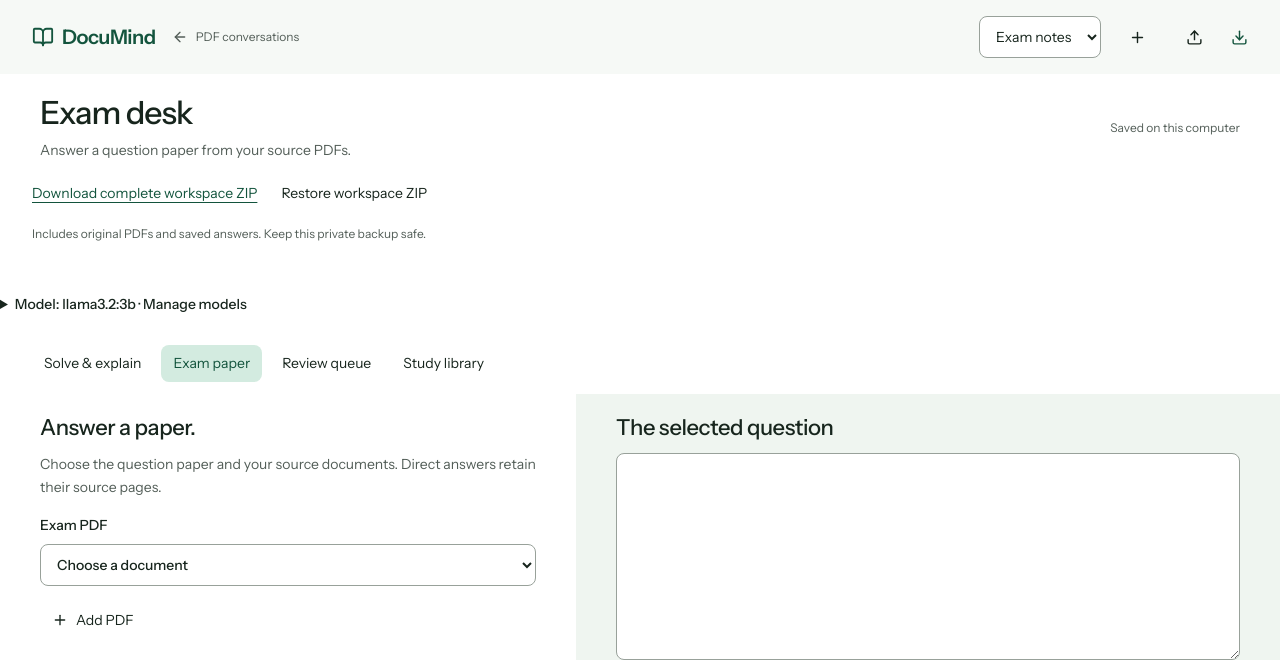
Test: stops a model job without saving a completed attempt
Click the button "Solve & explain" at (93,364), box [32,345,153,382]
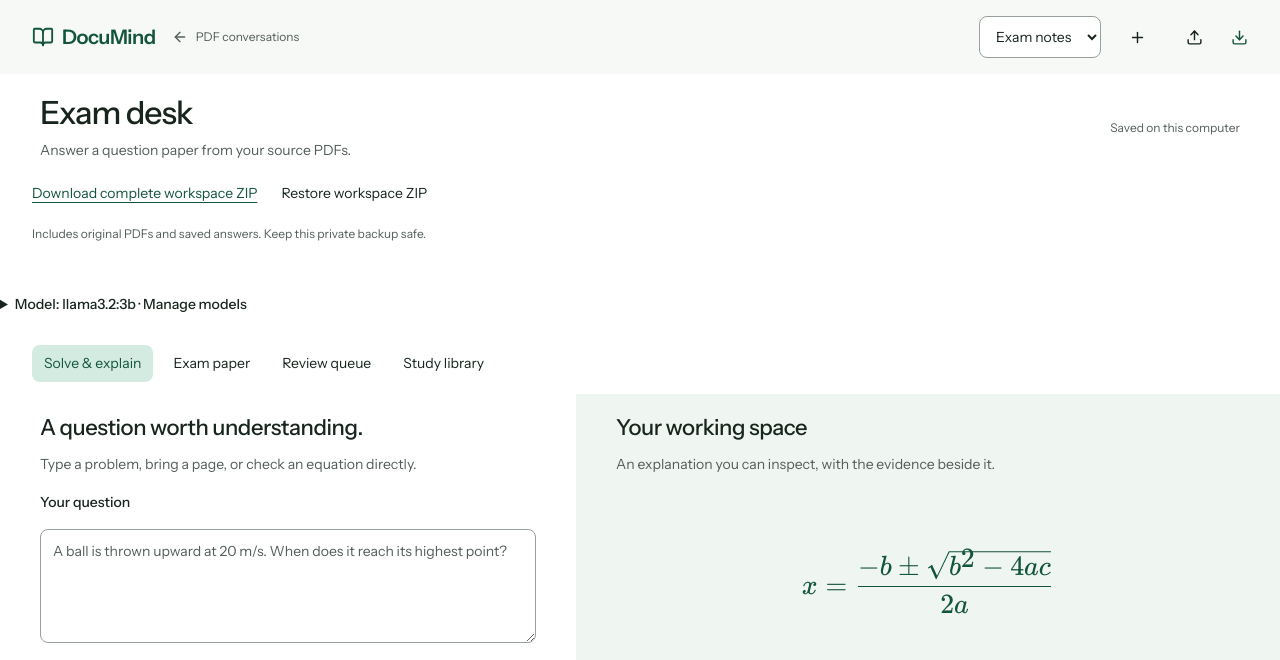
Replace the text in the text box labelled "Your question" with "Solve something" at (288,586), box [40,529,536,643]
(page scrolled)
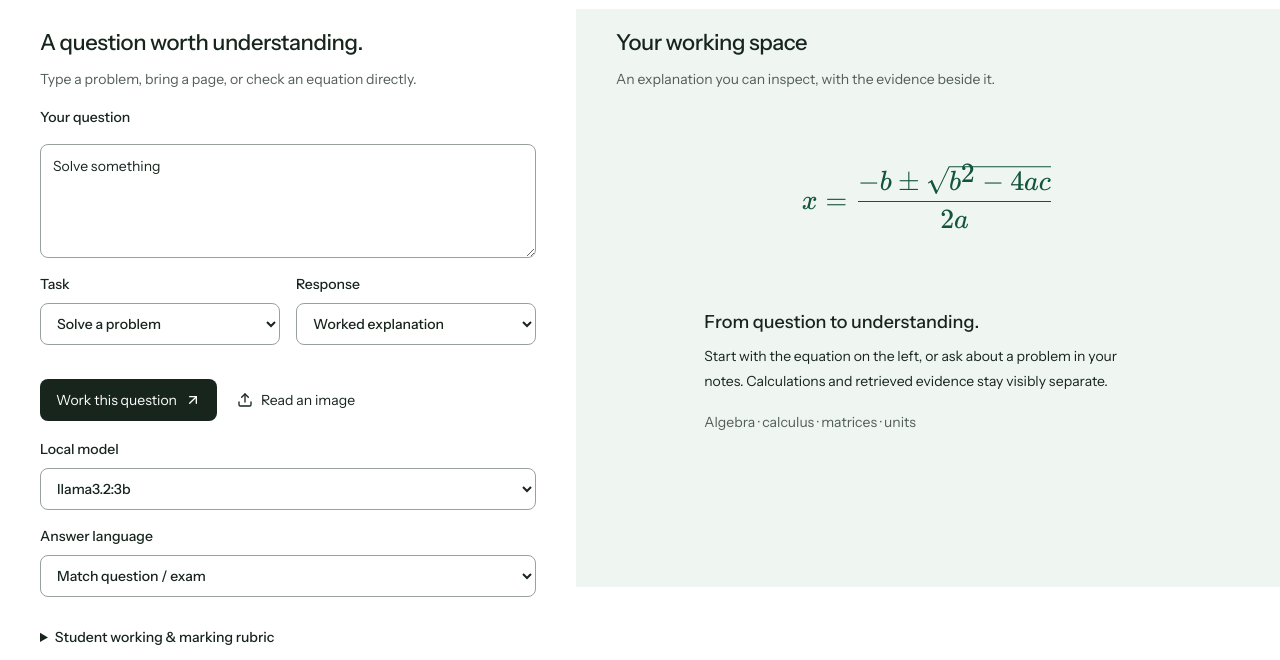
Click the button "Work this question" at (128,400), box [40,379,217,421]
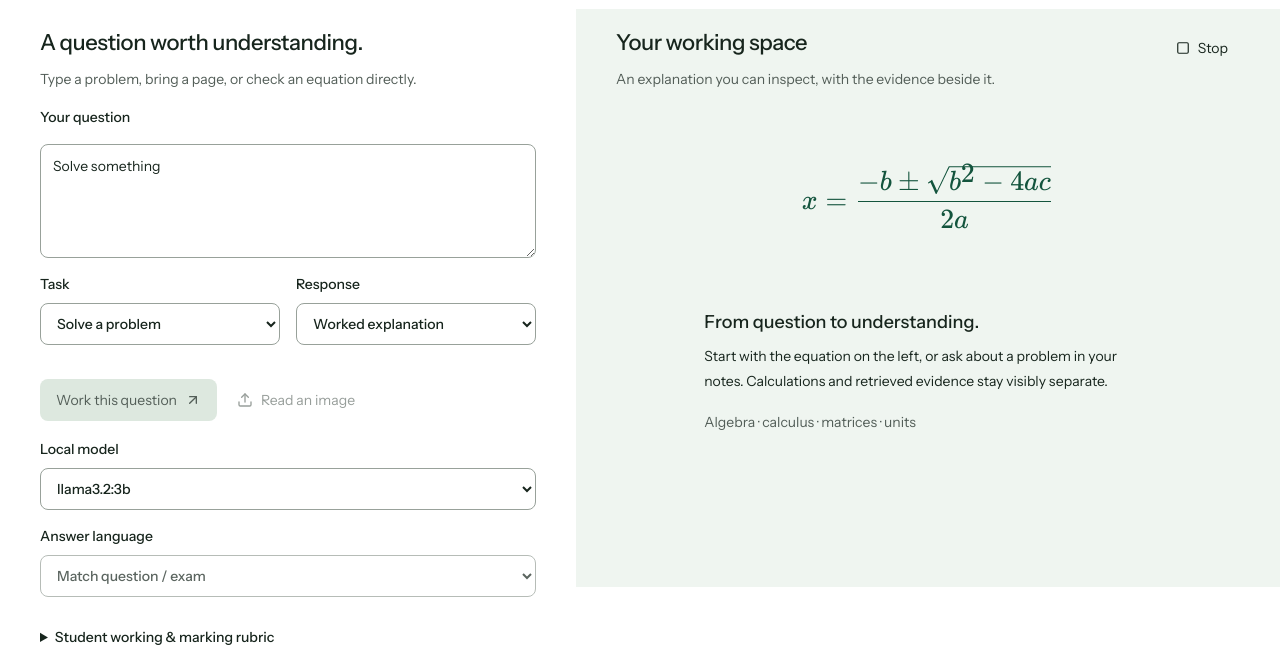
Expected: the button "Stop" is shown
Click the button "Stop" at (1202,48), box [1164,30,1240,67]
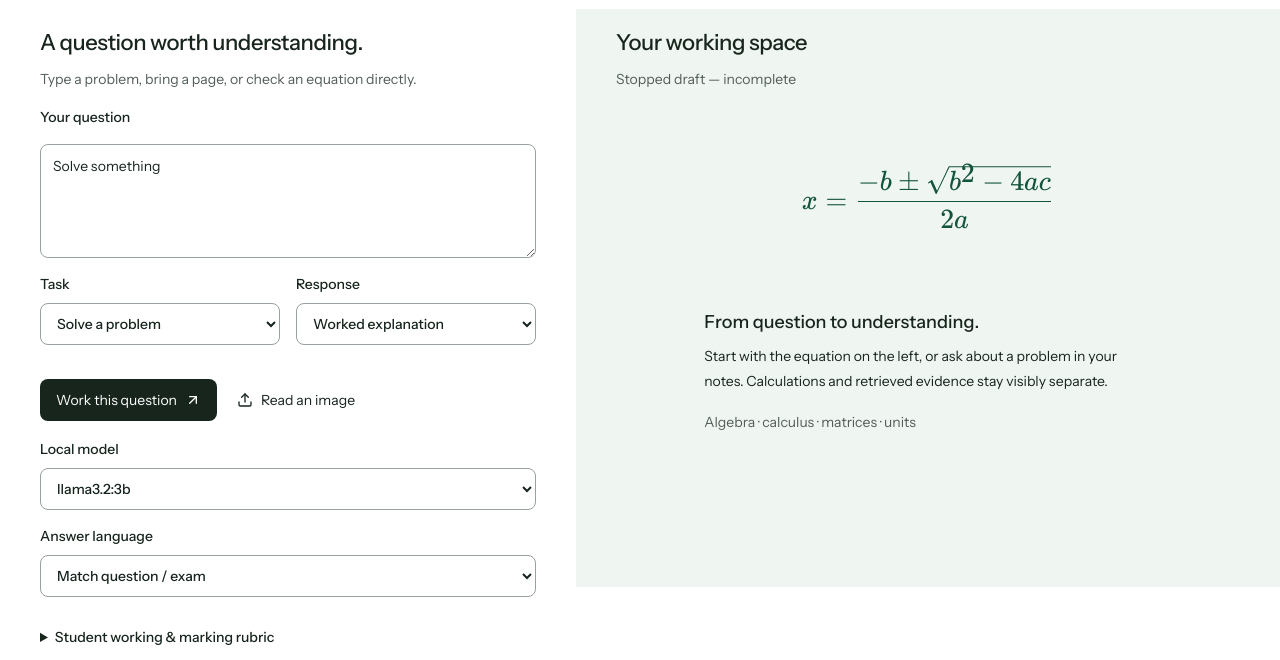
Expected: the text "Stopped draft — incomplete" is shown, [616,70,796,88]
